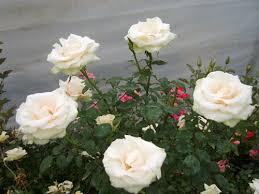Rose: (102, 132, 167, 193), (14, 88, 78, 146), (189, 72, 255, 126), (122, 13, 183, 60), (45, 25, 101, 74)
